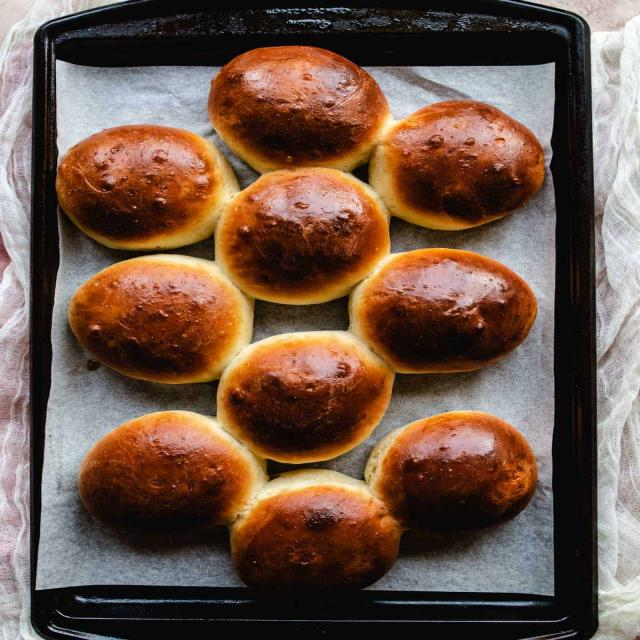Bun: (56, 256, 280, 392), (365, 96, 555, 250), (77, 402, 267, 554), (202, 332, 410, 470), (208, 164, 395, 310), (347, 238, 549, 372), (59, 104, 229, 262), (368, 408, 555, 542), (210, 42, 394, 174), (227, 462, 397, 600)
